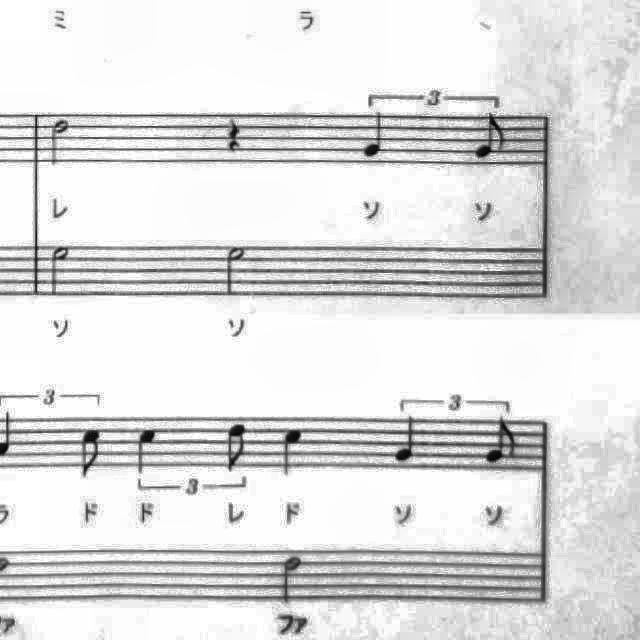Eighth-note: (478, 412, 522, 470), (71, 424, 109, 488), (470, 111, 510, 165), (220, 418, 256, 478)
Half-note: (44, 239, 80, 303), (220, 240, 256, 302), (41, 114, 75, 174), (276, 551, 308, 609)
Quarter-note: (388, 411, 428, 469), (274, 422, 310, 484), (358, 106, 394, 164), (130, 423, 164, 481)
Quarter-rest: (219, 112, 249, 160)
